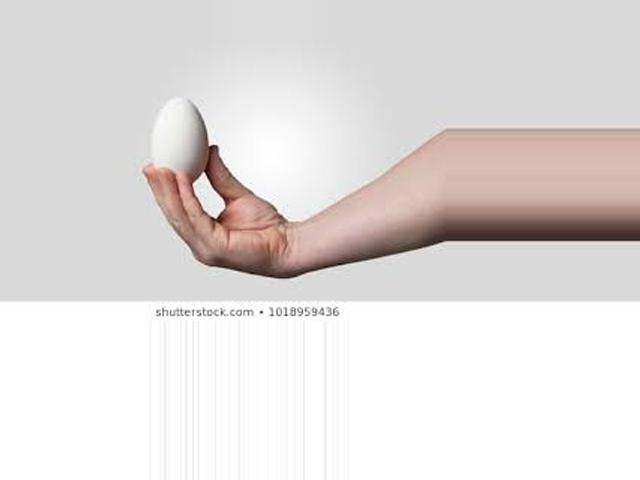egg: (149, 96, 209, 184)
